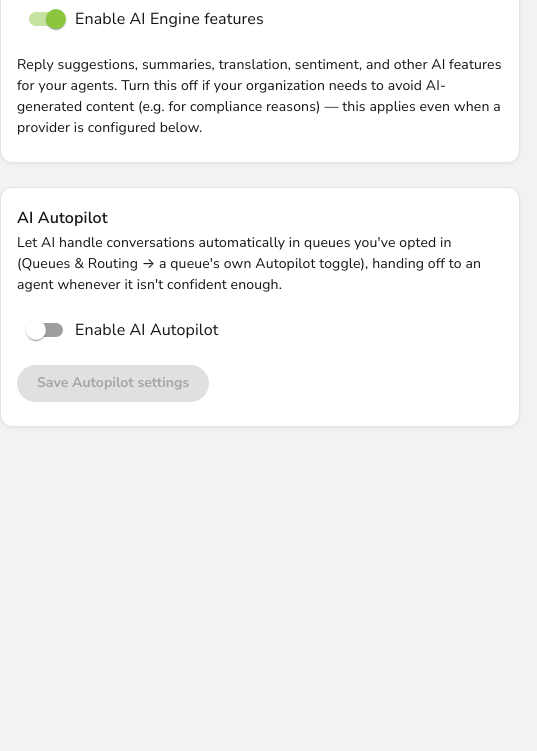
AiSettingsPanel — AI Autopilot activation modes › offers all three activation modes, with only the new-conversation mode on by default
Click the switch labelled "Enable AI Autopilot": (122, 330) [26,319,218,341]
(page scrolled)
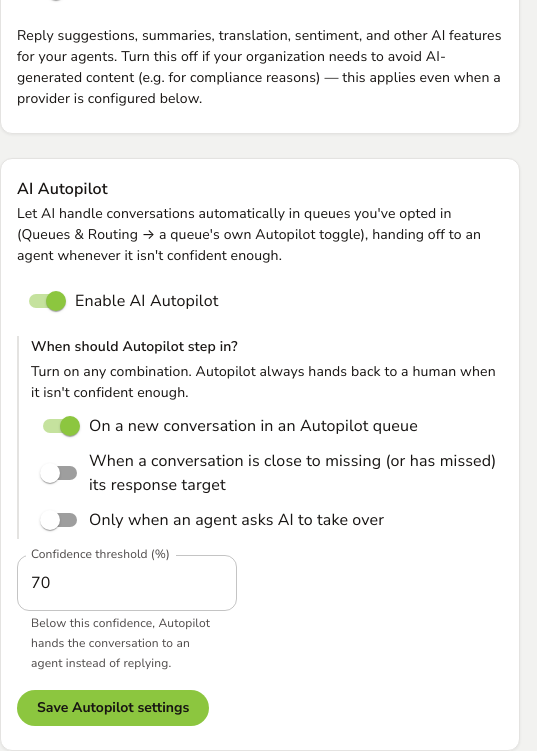
Expected: the text "When should Autopilot step in?" is shown, [31,337,238,356]
Expected: the switch labelled "On a new conversation in an Autopilot queue" is checked, [43,415,418,437]
Expected: the 4th switch is not checked, [31,449,503,497]
